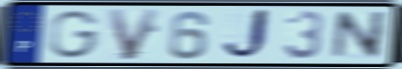3: (282, 9, 324, 62)
6: (167, 9, 211, 61)
G: (48, 9, 103, 60)
J: (219, 7, 273, 63)
N: (329, 10, 390, 61)
V: (105, 7, 163, 62)
